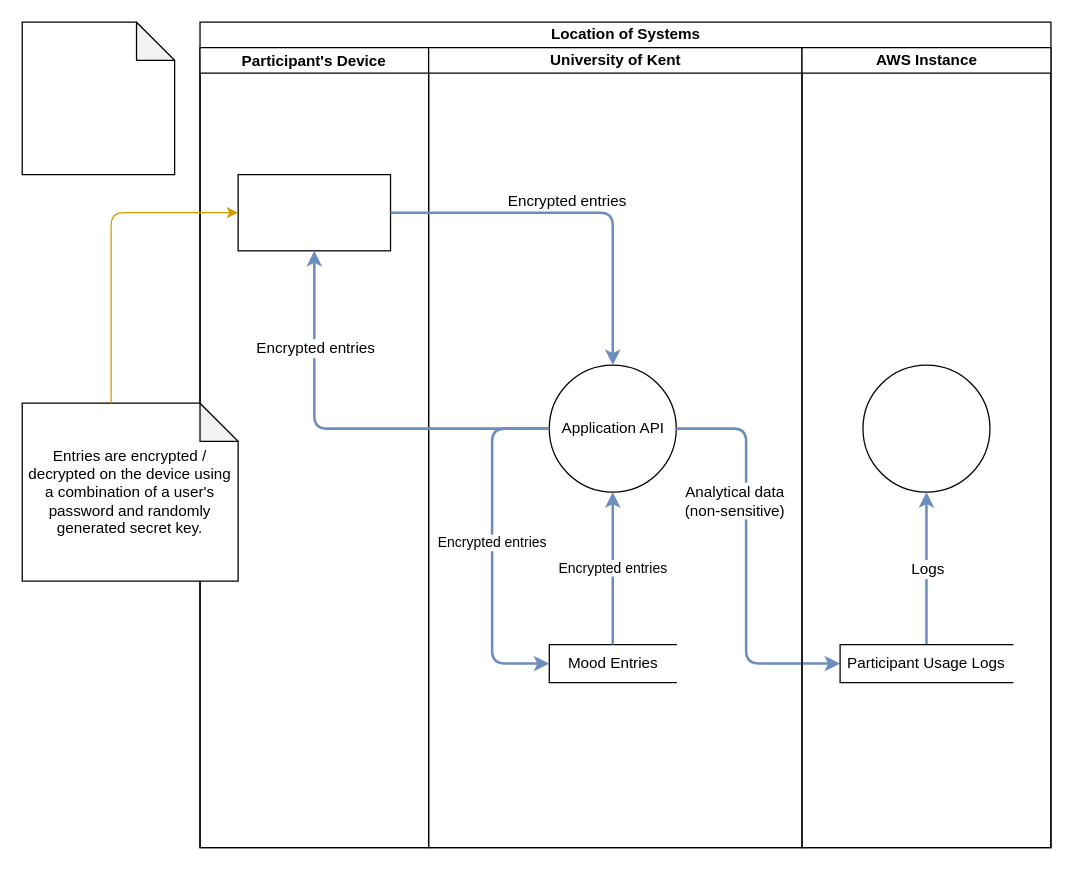
This 1073x870 diagram has some shape labels left out. The centre of each missing label's shape, as x and y in pixels:
"All data is assumed to be sent as JSON unless specified" goes at (x=98, y=98).
"Elastisearch" goes at (x=926, y=428).
"Participant" goes at (x=314, y=212).
